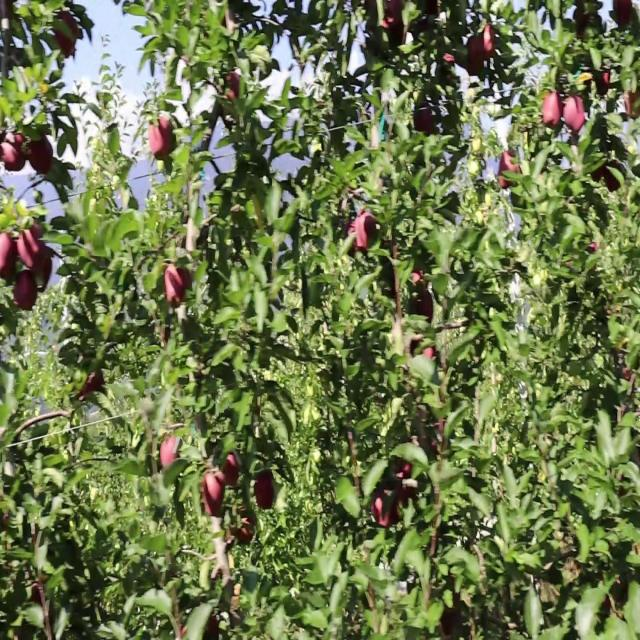apple: (212, 568, 240, 624), (468, 28, 496, 76), (20, 227, 47, 272), (168, 263, 193, 311), (472, 21, 498, 66), (468, 28, 492, 76), (28, 135, 54, 178), (372, 490, 399, 530), (380, 7, 407, 46), (148, 120, 173, 162), (56, 14, 79, 59), (352, 213, 378, 252), (396, 462, 418, 507), (16, 270, 39, 313), (4, 135, 27, 176), (500, 149, 521, 192), (604, 575, 627, 613), (564, 99, 588, 135), (0, 234, 17, 281), (412, 106, 437, 137), (480, 21, 498, 62), (544, 92, 563, 130), (256, 476, 276, 512), (160, 433, 180, 469), (572, 7, 592, 41), (76, 376, 100, 404), (432, 419, 449, 457), (384, 7, 406, 36), (416, 291, 435, 324), (36, 255, 53, 290), (468, 42, 484, 78), (224, 455, 240, 489), (204, 476, 224, 503), (224, 71, 242, 101), (236, 519, 256, 546), (604, 163, 621, 194), (616, 0, 635, 27), (624, 92, 640, 121), (596, 71, 613, 96), (444, 56, 457, 84), (204, 618, 220, 639), (92, 369, 105, 393), (592, 163, 605, 183), (208, 504, 223, 519)
